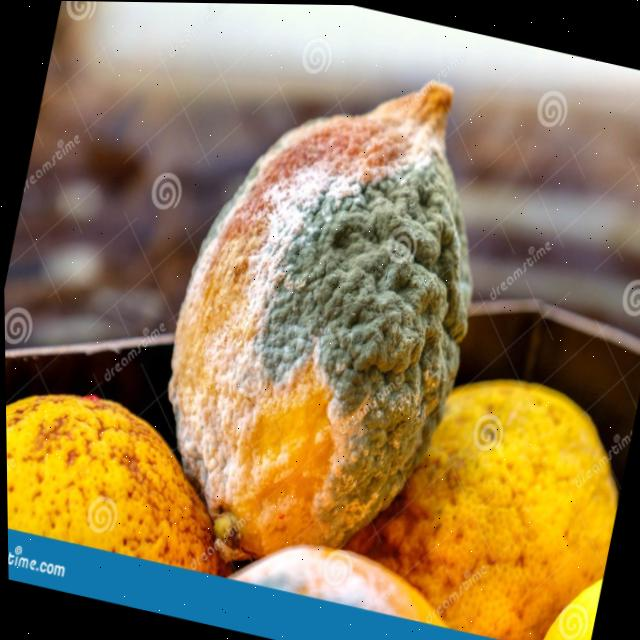Wet: (126, 34, 520, 606), (320, 346, 637, 640), (4, 372, 248, 571)
